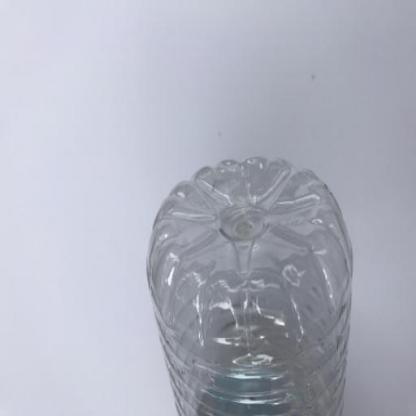trash: (145, 156, 363, 415)
